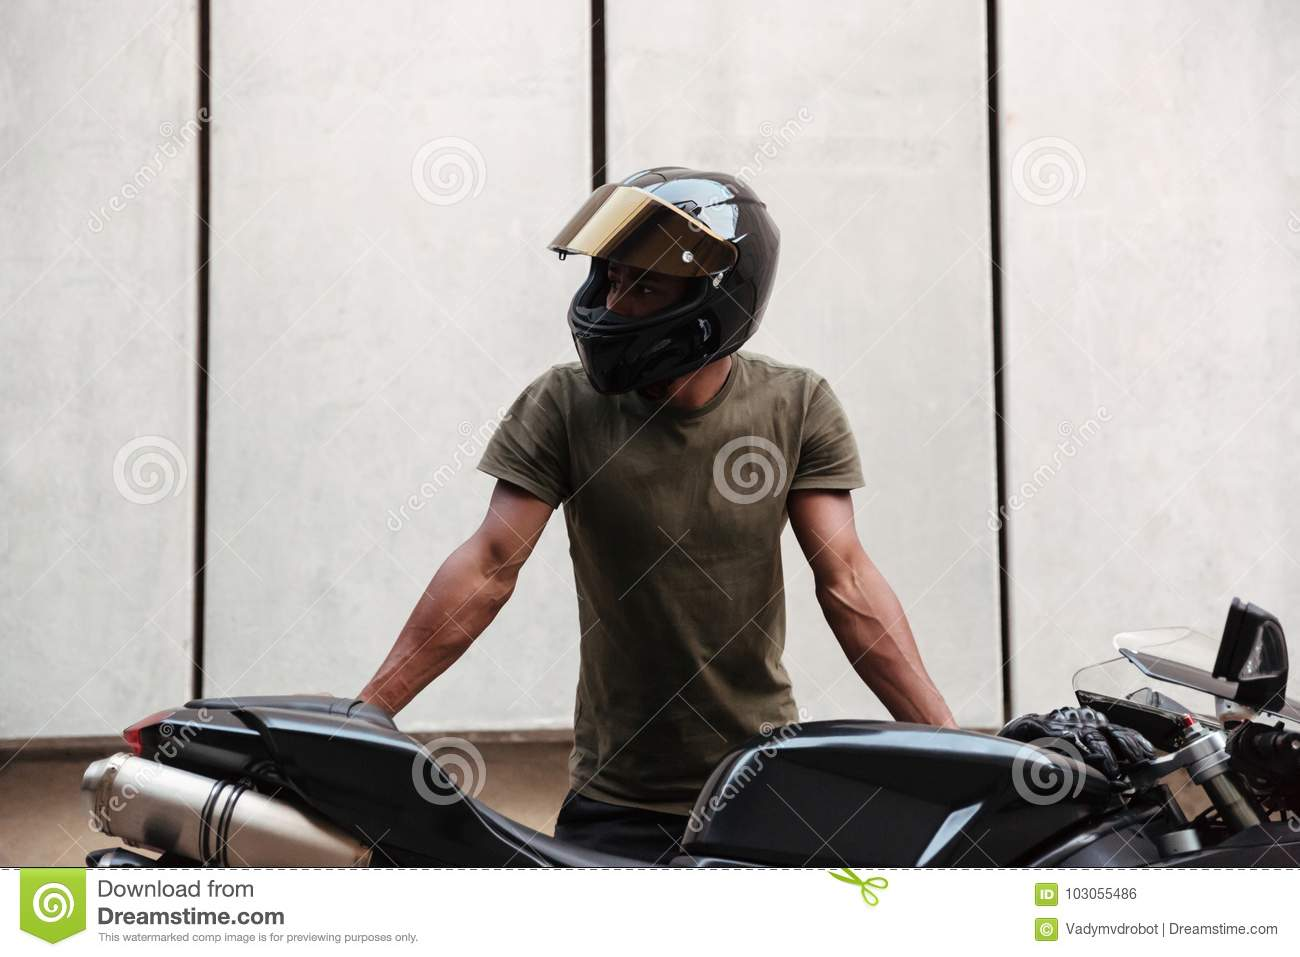helmet: (546, 166, 786, 383)
